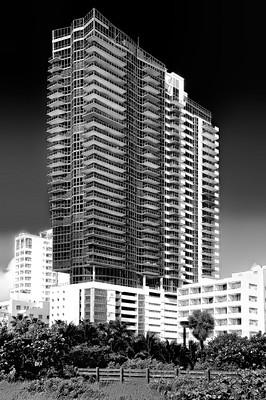building: (46, 12, 168, 284)
